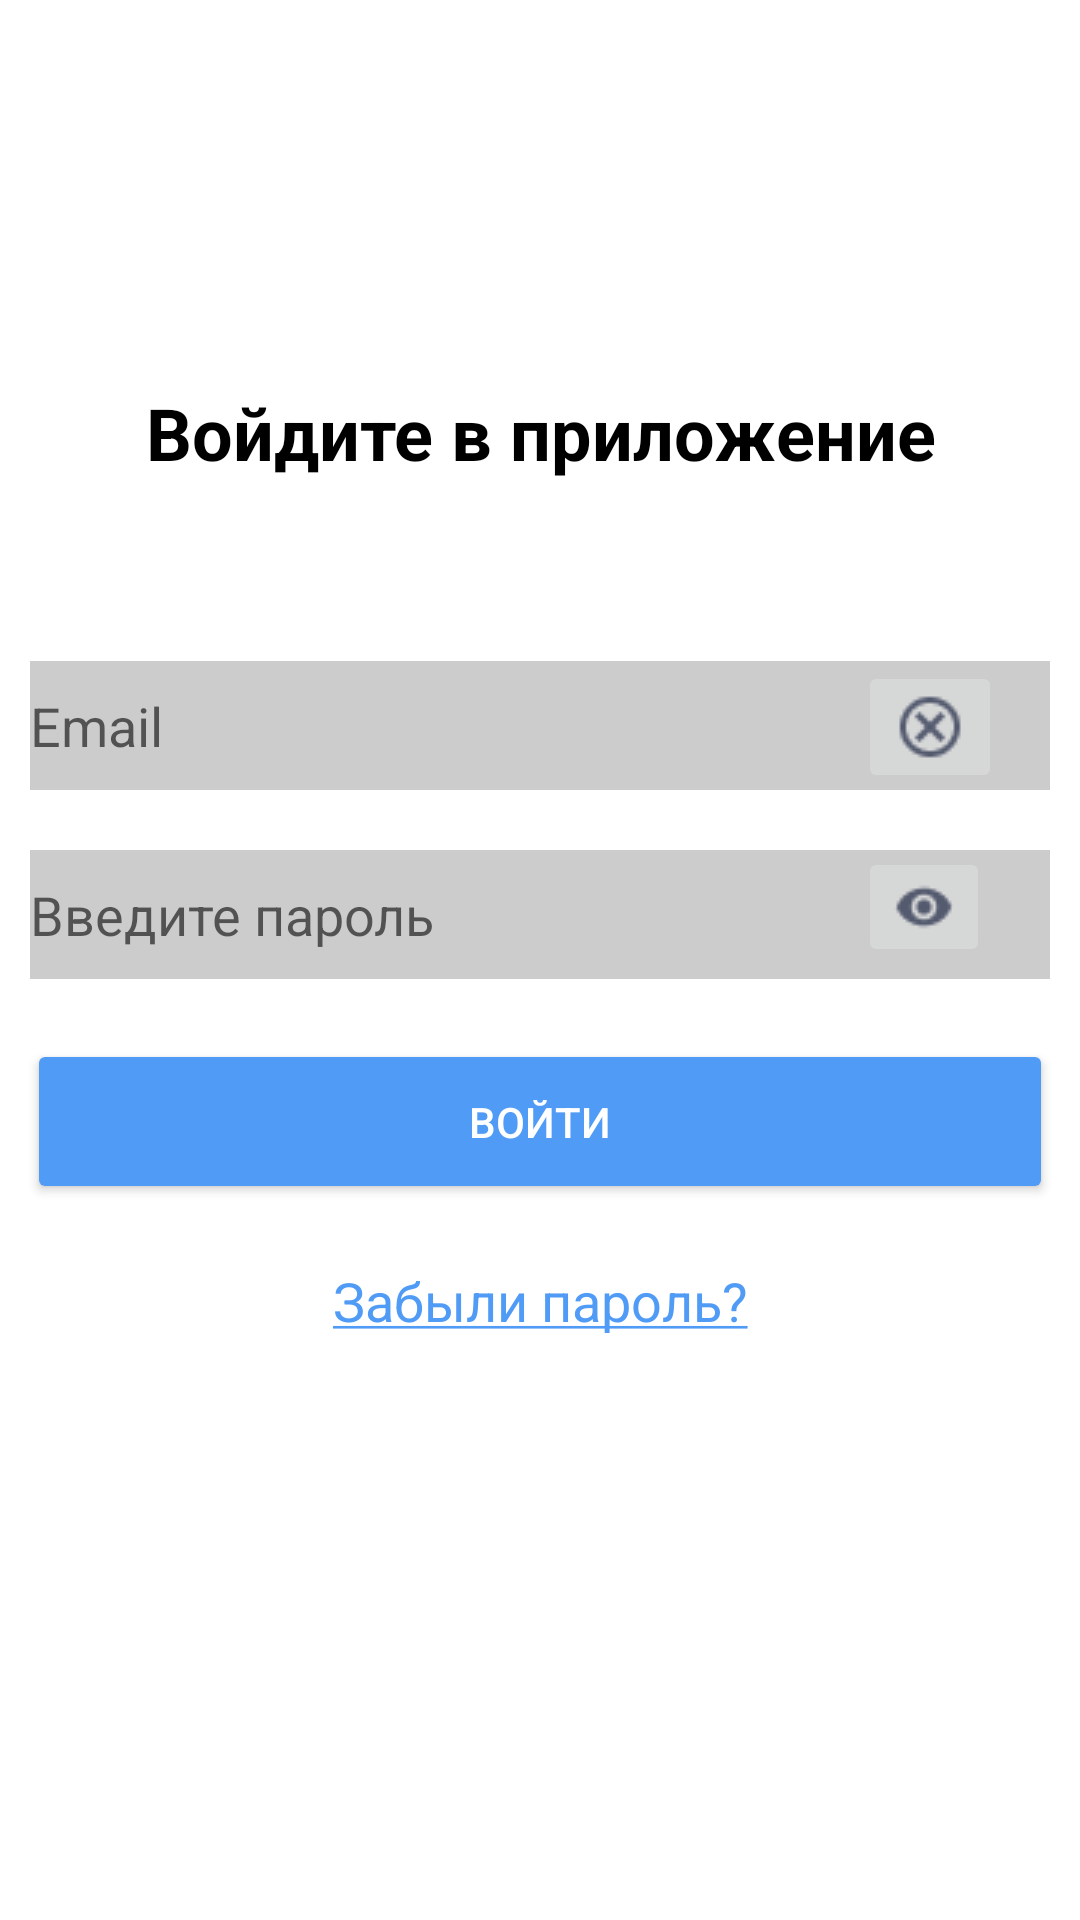

Icons on this 1080×1920 Android screen, each with the point to tap as [x,y]:
cancel: [930,727]
